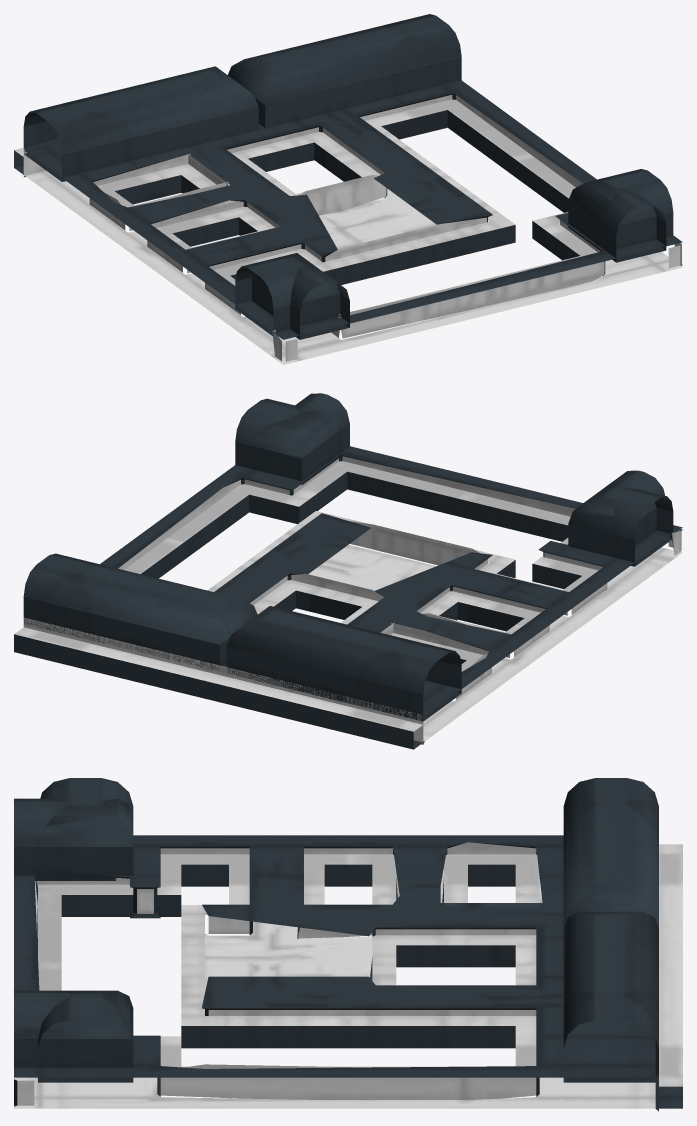
Rendered from delbld-girder-596.glb.
3 renders of one model, top to bottom at view 1: azimuth 30°, elevation 25°; view 2: azimuth 150°, elevation 25°; view 3: azimuth 270°, elevation 25°, orthographic. The views are drawn at different scales.
Visible parts, largest first — view 1: delbld-girder-596; view 2: delbld-girder-596; view 3: delbld-girder-596.
Boxes of the visible parts, x1=… form: delbld-girder-596: x1=14, y1=14, x2=682, y2=364; delbld-girder-596: x1=14, y1=393, x2=682, y2=749; delbld-girder-596: x1=14, y1=778, x2=682, y2=1111.
Size of the model in its own units: 2 by 0.3519 by 2.33.
3 materials, 3 textured.
